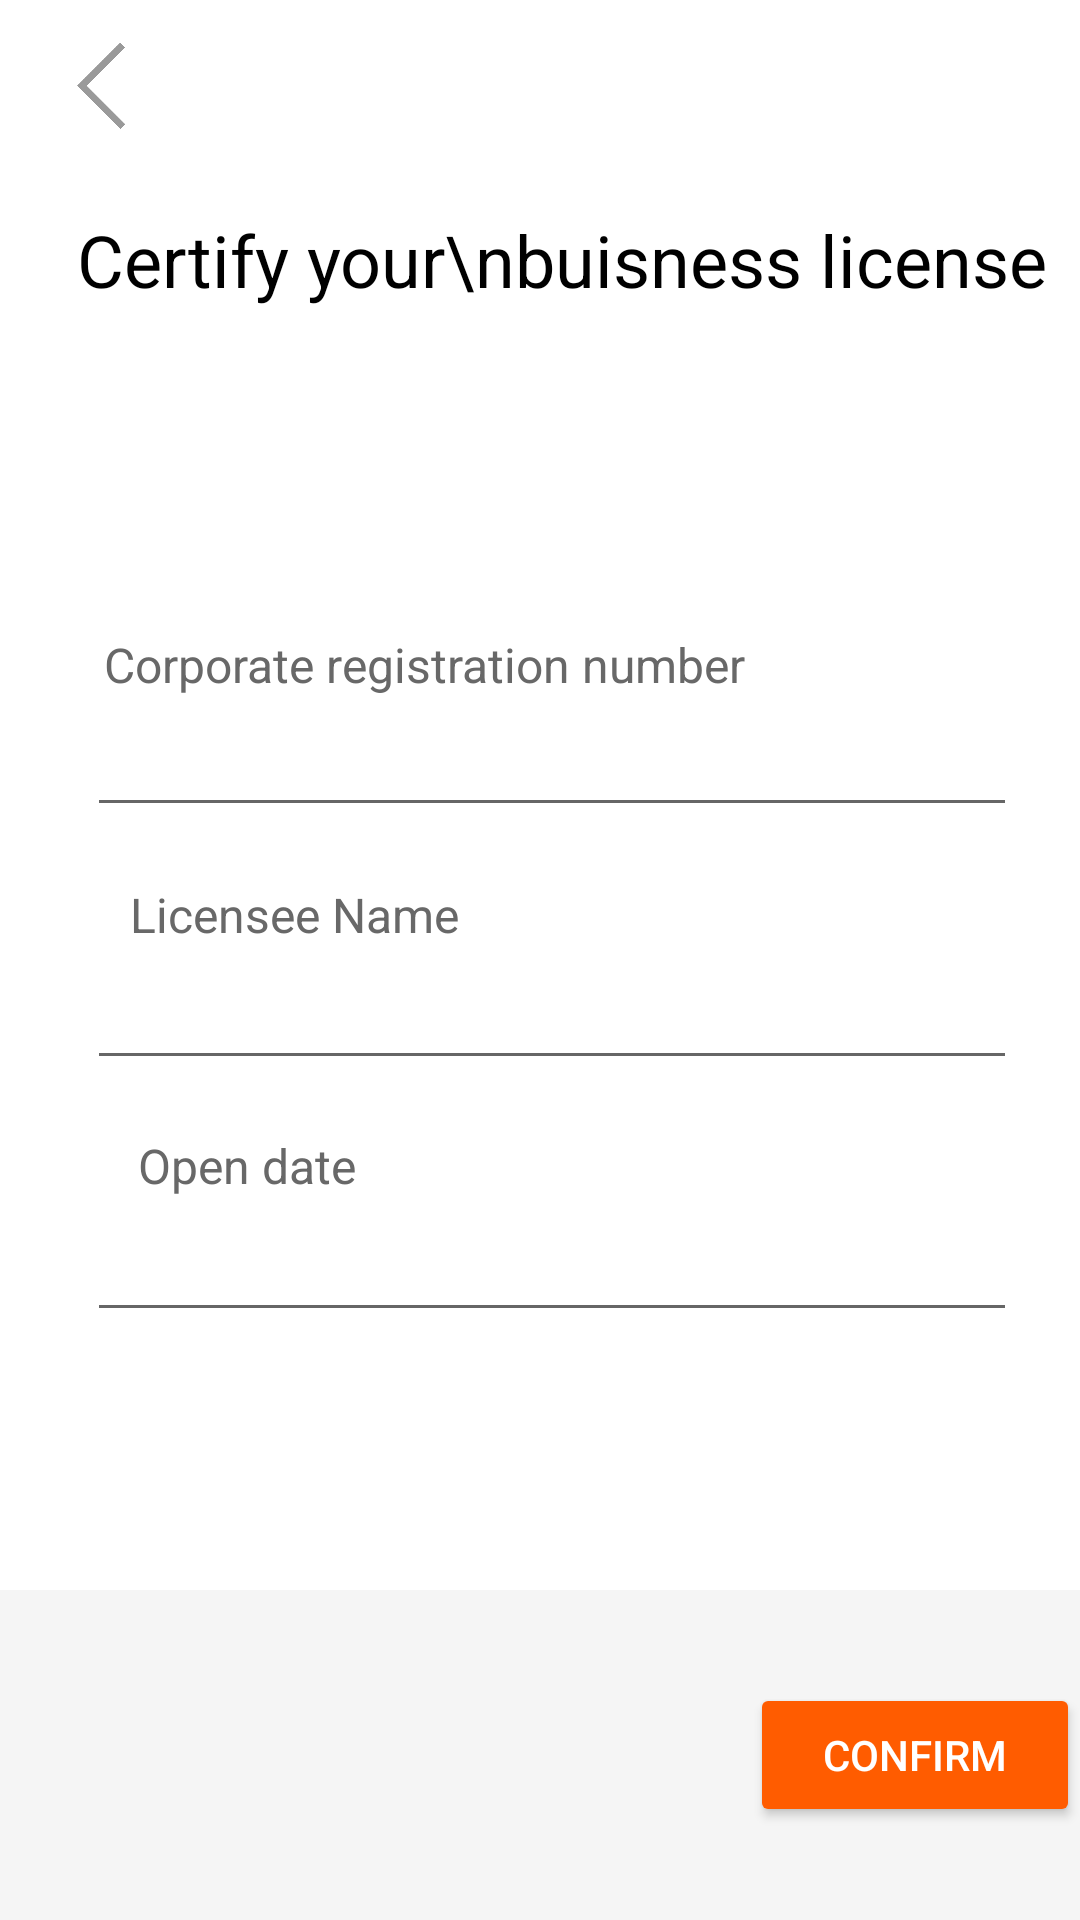

Screen size 1080 × 1920. Icon name, then its center in pixels as point (x, y):
prebutton: point (101, 86)
